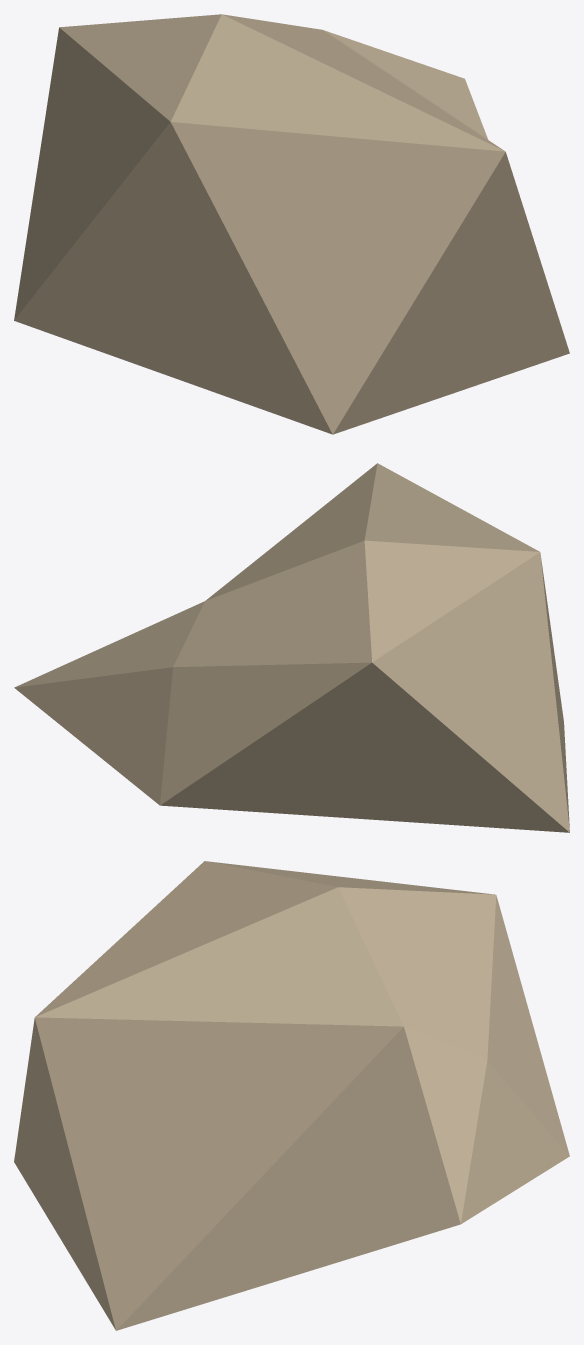
File: rock1.fbx
3 views of the same model, one above another, from view 1: azimuth 30°, elevation 25°; view 2: azimuth 150°, elevation 25°; view 3: azimuth 270°, elevation 25° (orthographic). The views are drawn at different scales.
Parts seen in each view (by area): view 1: Icosphere.005; view 2: Icosphere.005; view 3: Icosphere.005.
Part boxes in pixels (left/top/right/bottom): Icosphere.005: left=14, top=14, right=569, bottom=434; Icosphere.005: left=14, top=463, right=569, bottom=832; Icosphere.005: left=14, top=861, right=569, bottom=1330.
Bounding box in the file's own units: 257 × 152 × 236.
